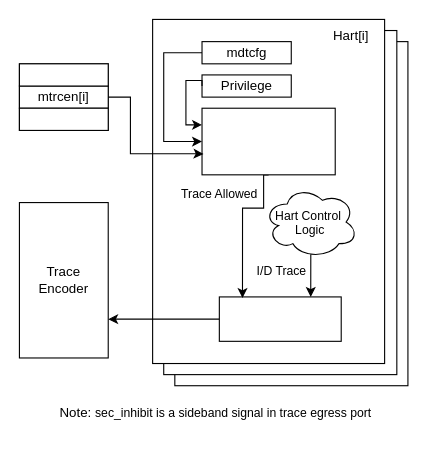
Some shapes in this 427 by 450 pixel diagram are drawn without their labels. Here are the shapes that lost their labels. From the top down, the centre of each, then its label:
At [268,141]: "Trace Security Control Logic".
At [279,318]: "Trace Egress (RHTI)".
